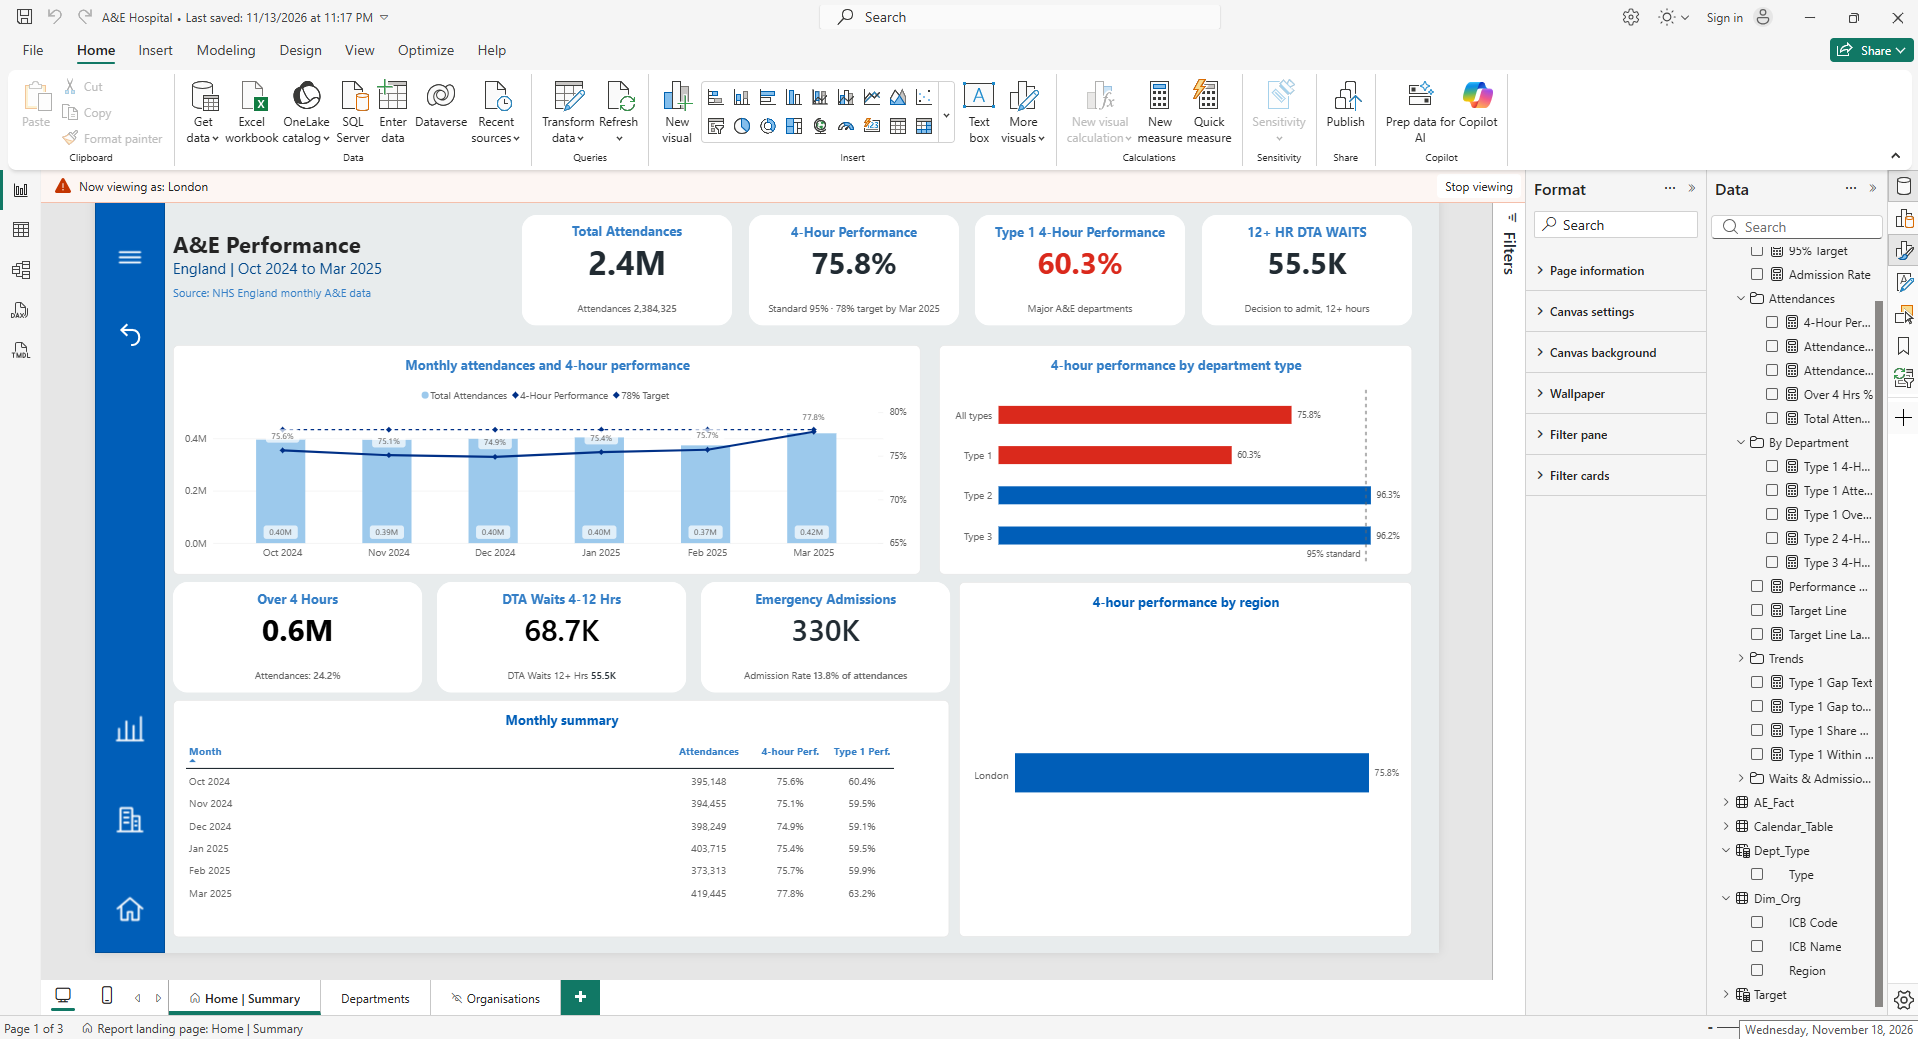

What the dashboard file says about the page in this screenshot:
{"tool":"powerbi","page":{"name":"Home | Summary","canvas":[1920,1080],"ordinal":0},"visuals":[{"type":"shape","box":[0,0,100,1080],"z":0},{"type":"textbox","box":[112,44,401.3,42.7],"z":1000},{"type":"textbox","box":[112,86.7,401.3,38.7],"z":2000},{"type":"textbox","box":[112,125.3,401.3,42.7],"z":3000},{"type":"cardVisual","fields":{"Data":["Measure_Table.Total Attendances"]},"box":[610.7,25.3,300,158.7],"z":4000},{"type":"cardVisual","fields":{"Data":["Measure_Table.4-Hour Performance"]},"box":[934.2,25.3,300,158.7],"z":5000},{"type":"cardVisual","fields":{"Data":["Measure_Table.Type 1 4-Hour Performance"]},"box":[1257.8,25.3,300,158.7],"z":6000},{"type":"cardVisual","fields":{"Data":["Measure_Table.DTA Waits 12+ Hrs"]},"box":[1581.4,25.7,300,158.7],"z":7000},{"type":"lineClusteredColumnComboChart","title":"Monthly attendances and 4-hour performance","fields":{"Category":["Calendar_Table.Month Year"],"Y":["Measure_Table.Total Attendances"],"Y2":["Measure_Table.4-Hour Performance","Measure_Table.78% Target"]},"box":[112,212,1068,328],"z":8000},{"type":"clusteredBarChart","title":"4-hour performance by department type","fields":{"Category":["Dept_Type.Type"],"Y":["Measure_Table.Performance by Type"]},"box":[1205.3,212,676,328],"z":9000},{"type":"cardVisual","fields":{"Data":["Measure_Table.DTA Waits 4-12 Hrs"]},"box":[488.7,550.7,356,158.7],"z":10000},{"type":"cardVisual","fields":{"Data":["Measure_Table.Emergency Admissions via A&E"]},"box":[865.3,550.7,356,158.7],"z":11000},{"type":"cardVisual","fields":{"Data":["Measure_Table.Attendances Over 4 Hrs"]},"box":[112,550.7,356,158.7],"z":12000},{"type":"tableEx","title":"Monthly summary","fields":{"Values":["Calendar_Table.Month Year","Measure_Table.Total Attendances","Measure_Table.4-Hour Performance","Measure_Table.Type 1 4-Hour Performance"]},"box":[112,718.7,1109.3,338.7],"z":13000},{"type":"clusteredBarChart","title":"4-hour performance by region","fields":{"Category":["Dim_Org.Region"],"Y":["Measure_Table.4-Hour Performance"]},"box":[1234.7,550.7,646.7,506.7],"z":14000},{"type":"actionButton","box":[0,157.1,100,78.6],"z":15000},{"type":"actionButton","box":[0,718.6,100,80],"z":16000},{"type":"actionButton","box":[0,847.9,100,80],"z":17000},{"type":"actionButton","box":[0,977.1,100,80],"z":18000},{"type":"actionButton","title":"Hamburger","box":[0,47.1,100,78.6],"z":19000}]}

Visuals, with their boxes on the page's 1920x1080 design canvas (x1, y1, x2, y2). These are canvas units, not pixel positions in the 1918x1039 screenshot, which may show the page scaled, cropped or inside an application window:
shape: <box>0,0,100,1080</box>
textbox: <box>112,44,513,87</box>
textbox: <box>112,87,513,125</box>
textbox: <box>112,125,513,168</box>
cardVisual - Measure_Table.Total Attendances: <box>611,25,911,184</box>
cardVisual - Measure_Table.4-Hour Performance: <box>934,25,1234,184</box>
cardVisual - Measure_Table.Type 1 4-Hour Performance: <box>1258,25,1558,184</box>
cardVisual - Measure_Table.DTA Waits 12+ Hrs: <box>1581,26,1881,184</box>
"Monthly attendances and 4-hour performance" lineClusteredColumnComboChart: <box>112,212,1180,540</box>
"4-hour performance by department type" clusteredBarChart: <box>1205,212,1881,540</box>
cardVisual - Measure_Table.DTA Waits 4-12 Hrs: <box>489,551,845,709</box>
cardVisual - Measure_Table.Emergency Admissions via A&E: <box>865,551,1221,709</box>
cardVisual - Measure_Table.Attendances Over 4 Hrs: <box>112,551,468,709</box>
"Monthly summary" tableEx: <box>112,719,1221,1057</box>
"4-hour performance by region" clusteredBarChart: <box>1235,551,1881,1057</box>
actionButton: <box>0,157,100,236</box>
actionButton: <box>0,719,100,799</box>
actionButton: <box>0,848,100,928</box>
actionButton: <box>0,977,100,1057</box>
"Hamburger" actionButton: <box>0,47,100,126</box>
